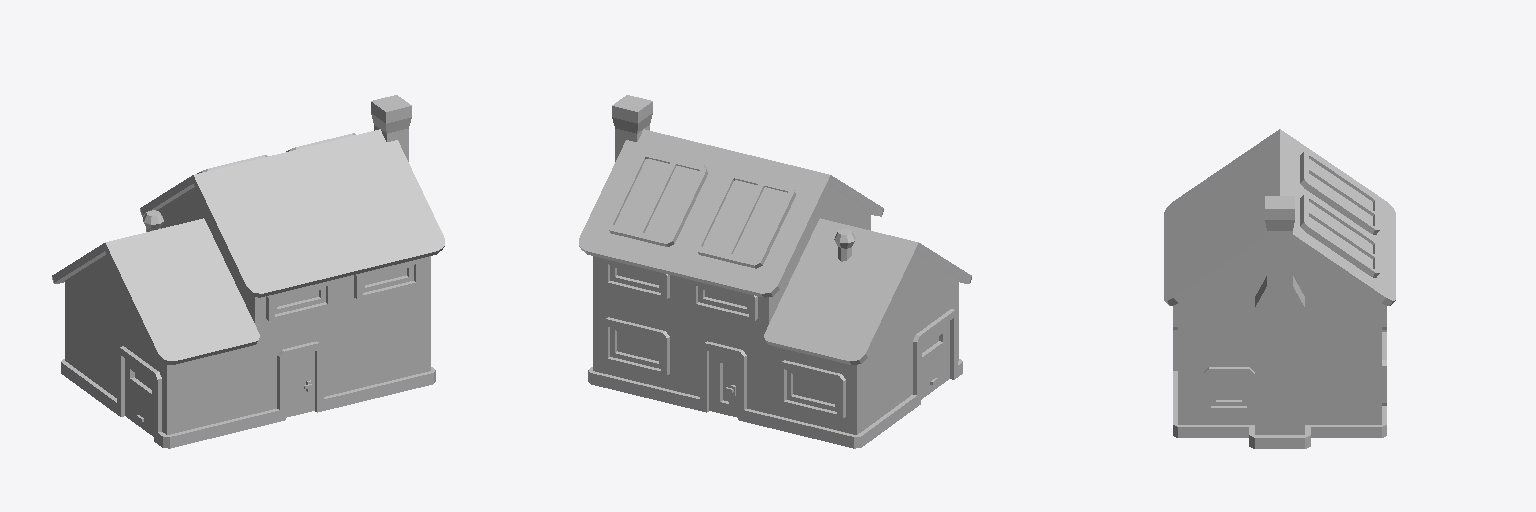
Rendered from suburban_building-type-j.obj.
3 renders of one model, left to right at view 1: azimuth 30°, elevation 25°; view 2: azimuth 150°, elevation 25°; view 3: azimuth 270°, elevation 25°, orthographic.
Parts seen in each view (by area): view 1: building-type-j; view 2: building-type-j; view 3: building-type-j.
Part boxes in pixels (left/top/right/bottom): building-type-j: left=52, top=95, right=444, bottom=448; building-type-j: left=579, top=95, right=971, bottom=448; building-type-j: left=1164, top=129, right=1395, bottom=448.
Size of the model in its own units: 1.37 by 1.04 by 0.916.